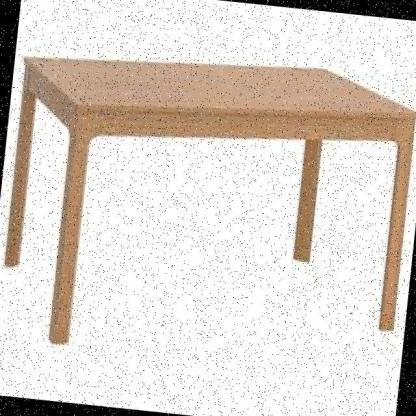Table: (0, 27, 416, 388)
